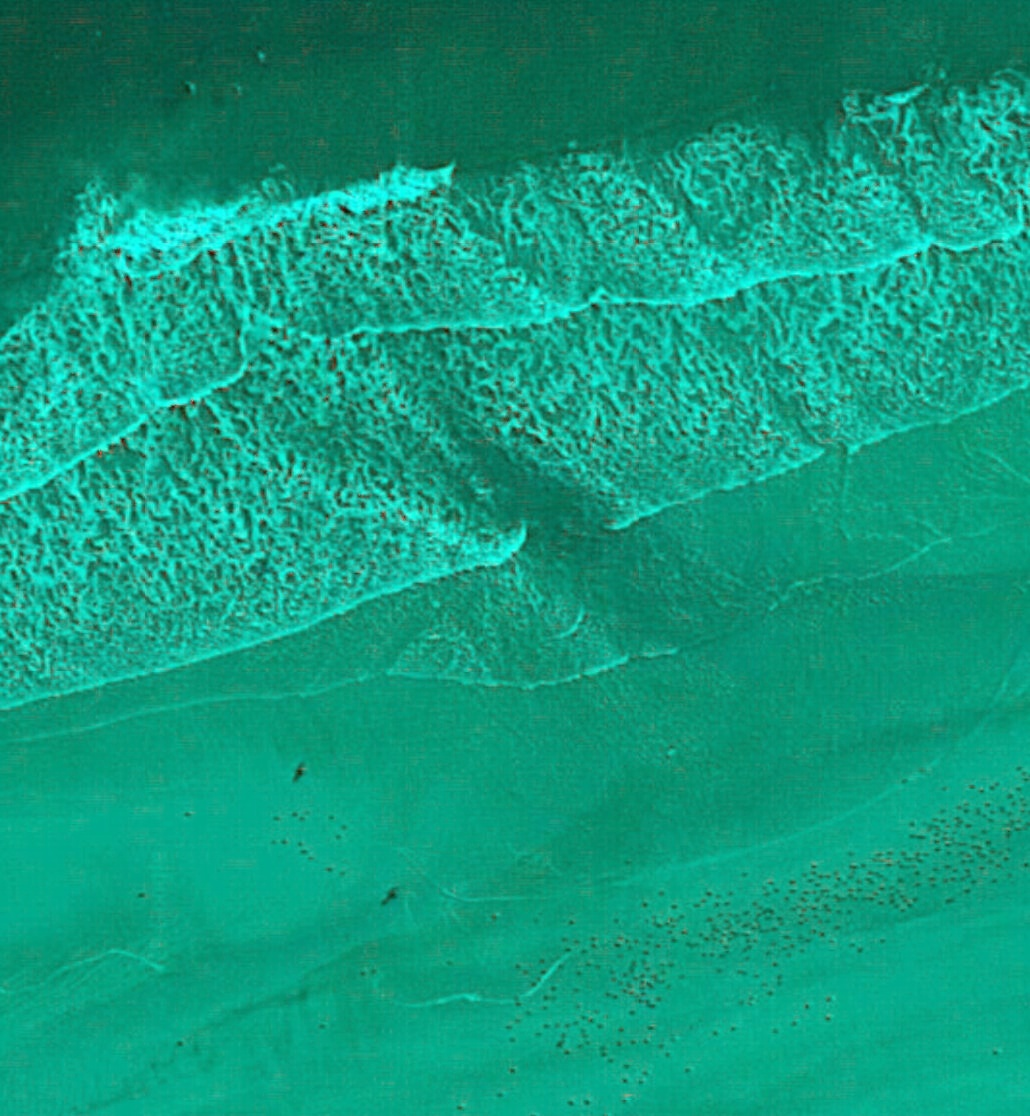rip_current: (67, 137, 670, 660)
